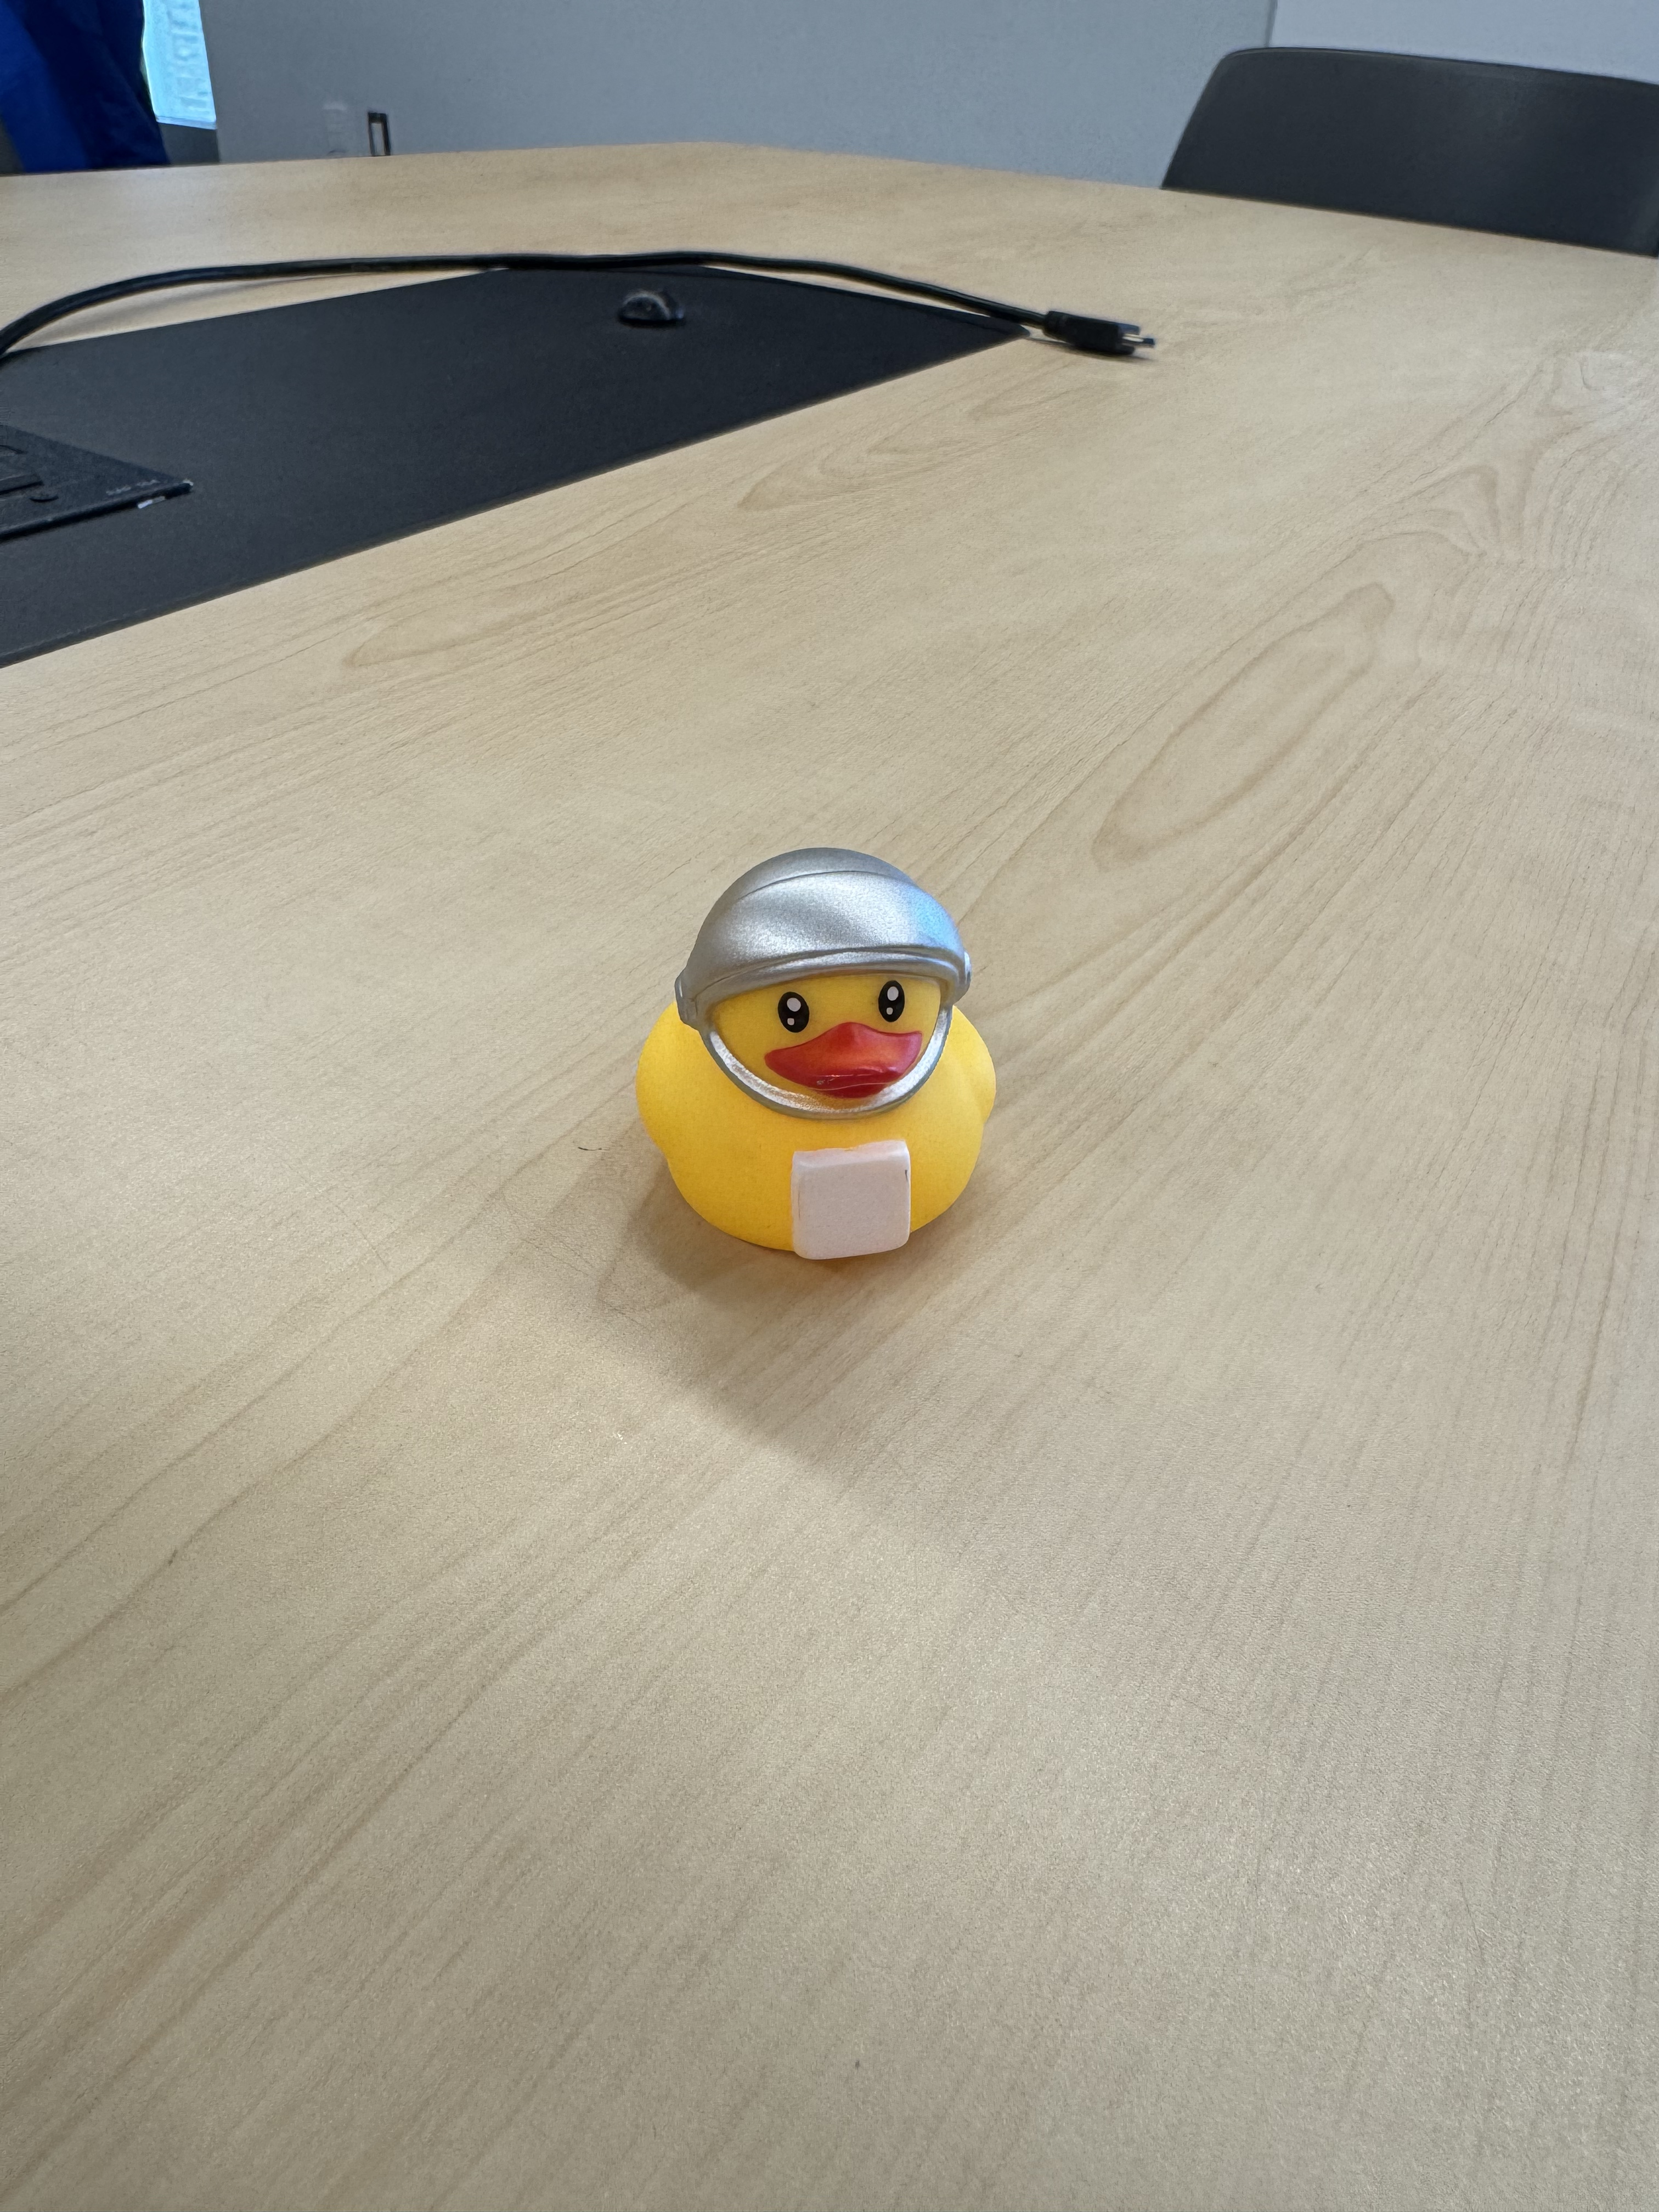duck_specialty: (634, 838, 1006, 1278)
